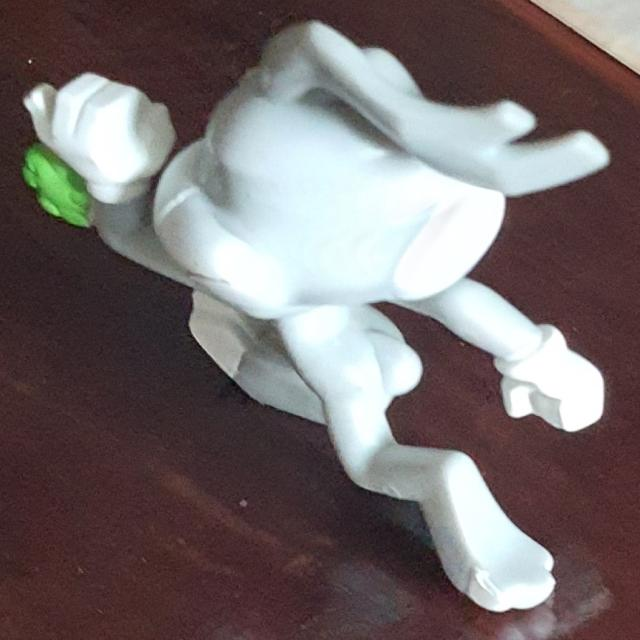Rabbit: (20, 18, 610, 613)
